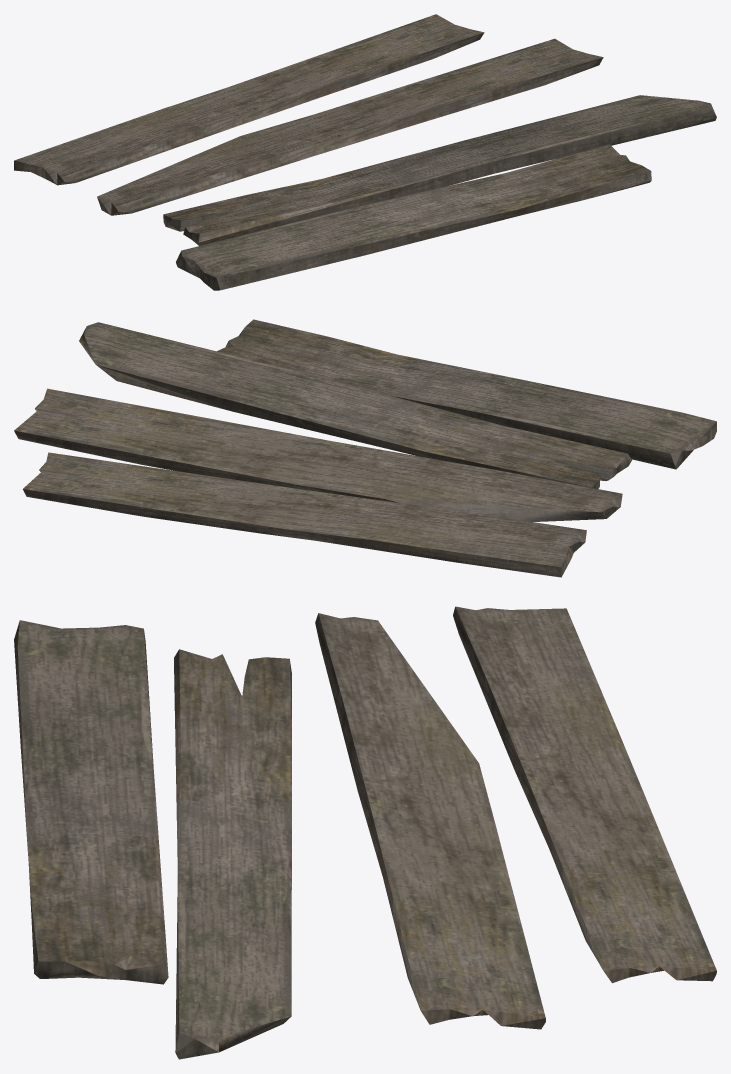
Rendered from SM_Wood_planks_2.fbx.
3 views of the same model, one above another, from view 1: azimuth 30°, elevation 25°; view 2: azimuth 150°, elevation 25°; view 3: azimuth 270°, elevation 25° (orthographic). The views are drawn at different scales.
Visible parts, largest first — view 1: SM_Wood_planks_2_LOD0; view 2: SM_Wood_planks_2_LOD0; view 3: SM_Wood_planks_2_LOD0.
Part boxes in pixels (x1,y1,x2,y2): SM_Wood_planks_2_LOD0: (14,14,716,290); SM_Wood_planks_2_LOD0: (14,319,716,577); SM_Wood_planks_2_LOD0: (14,606,716,1059).
Bounding box in the file's own units: 197 × 134 × 7.79.
